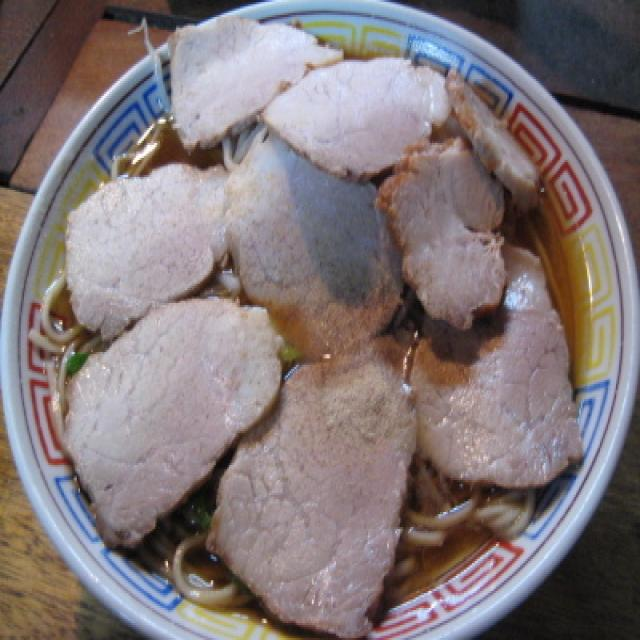面条主食: (44, 25, 594, 636)
